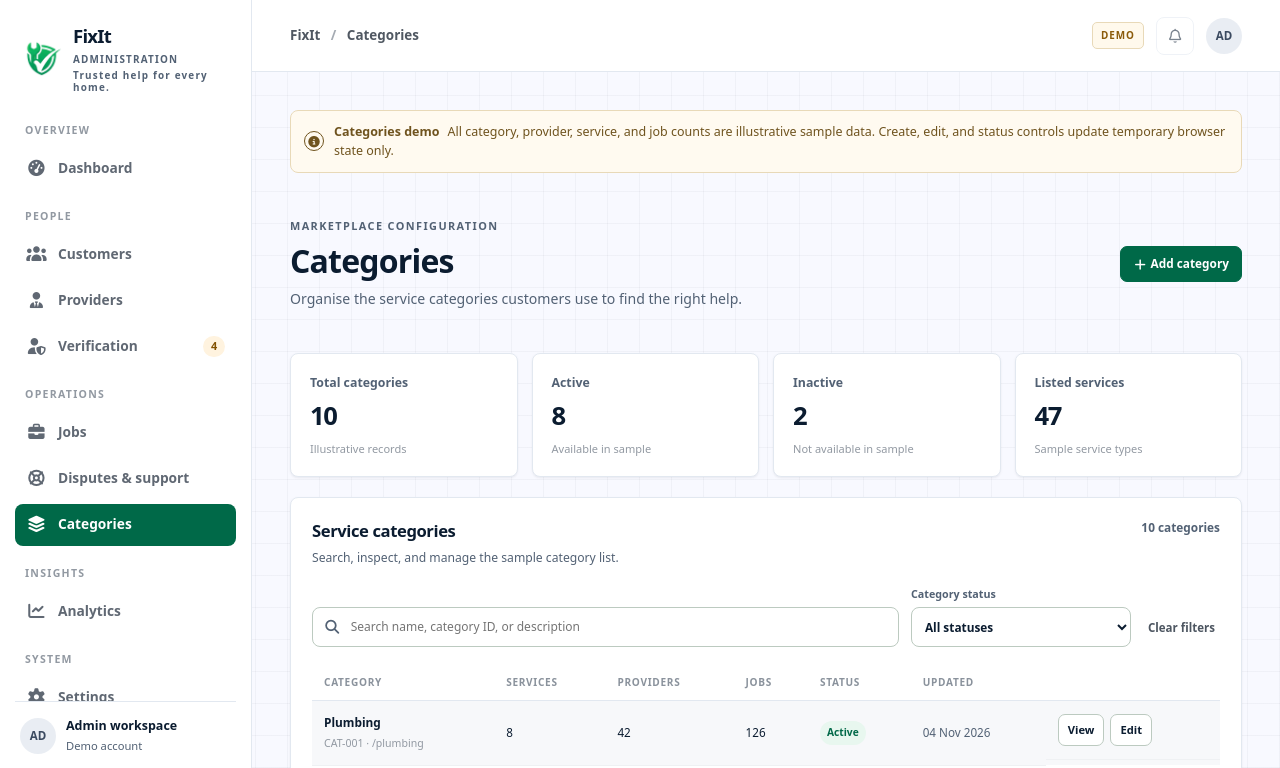
it: admin categories workspace › searches categories and filters by active status
The width and height of the screenshot is (1280, 768).
Type "painting" into the search field named "Search categories" at (618, 627), box [349,617,887,637]
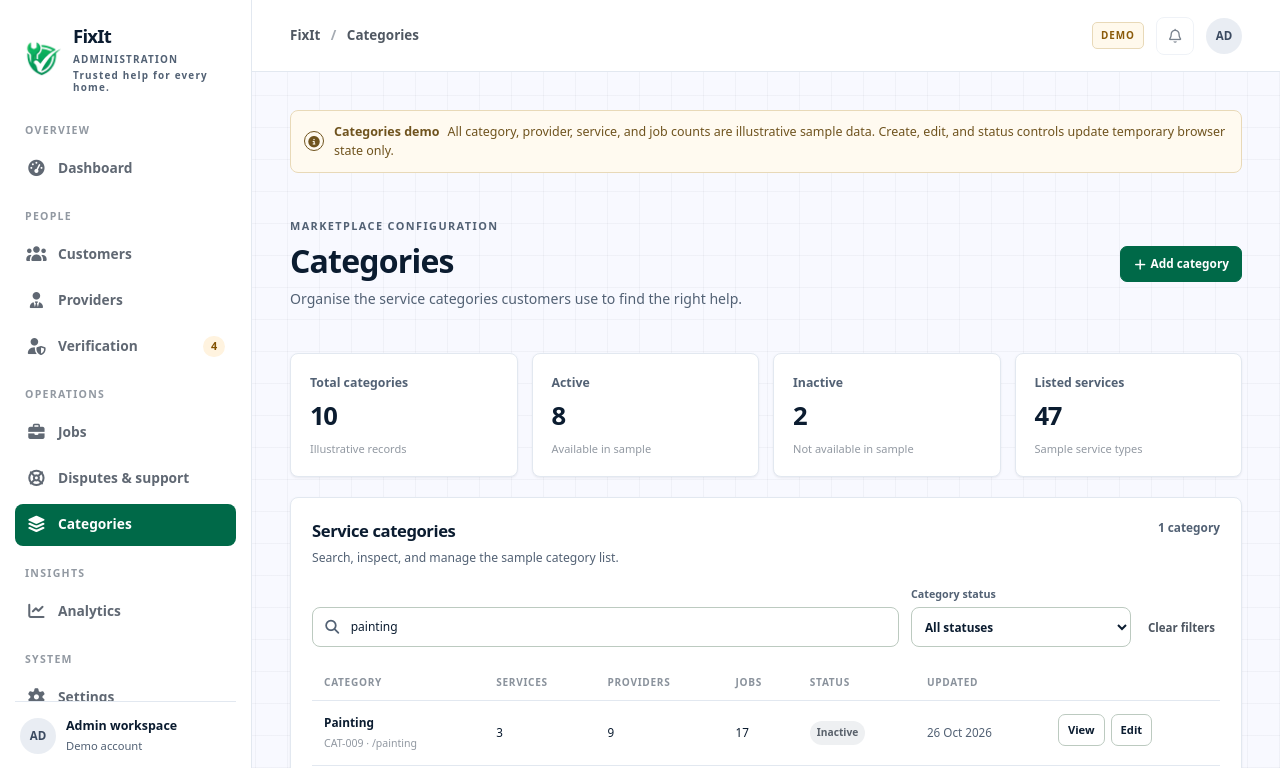
Expected: the text "Painting" is shown, [324,714,374,730]
Select "Active" in the dropdown labelled "Category status" at (1021, 627), box [911,607,1131,647]
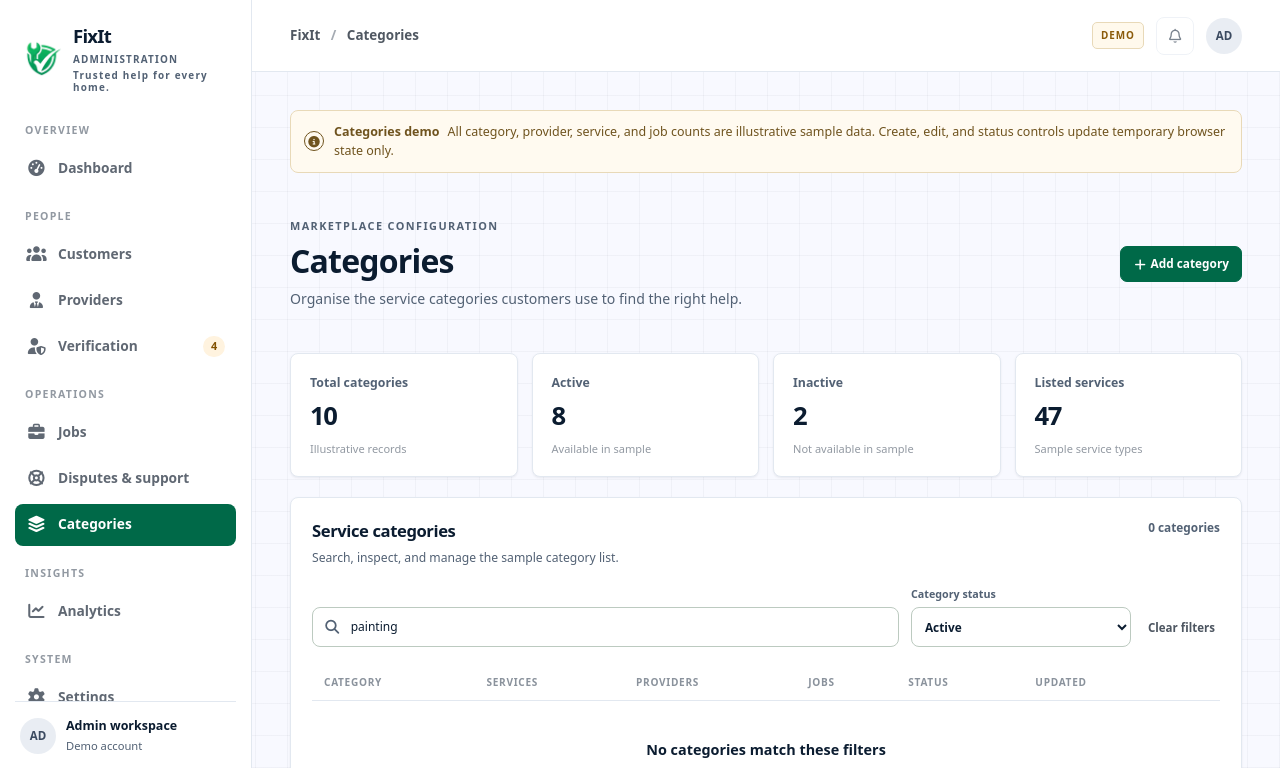
Expected: the text "No categories match these filters" is shown, [646,739,886,761]
Click the button "Clear filters" at (1181, 627), box [1143,607,1220,647]
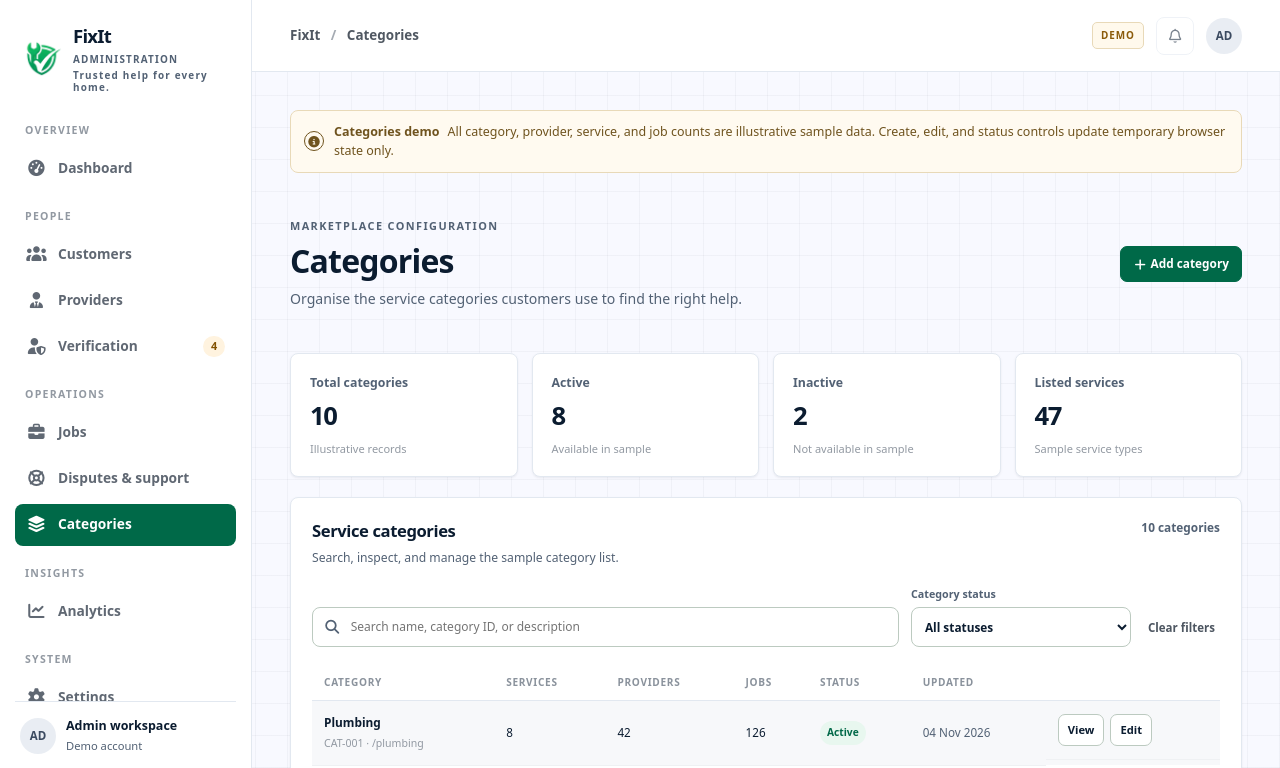
Expected: the text "Plumbing" is shown, [324,714,381,730]
